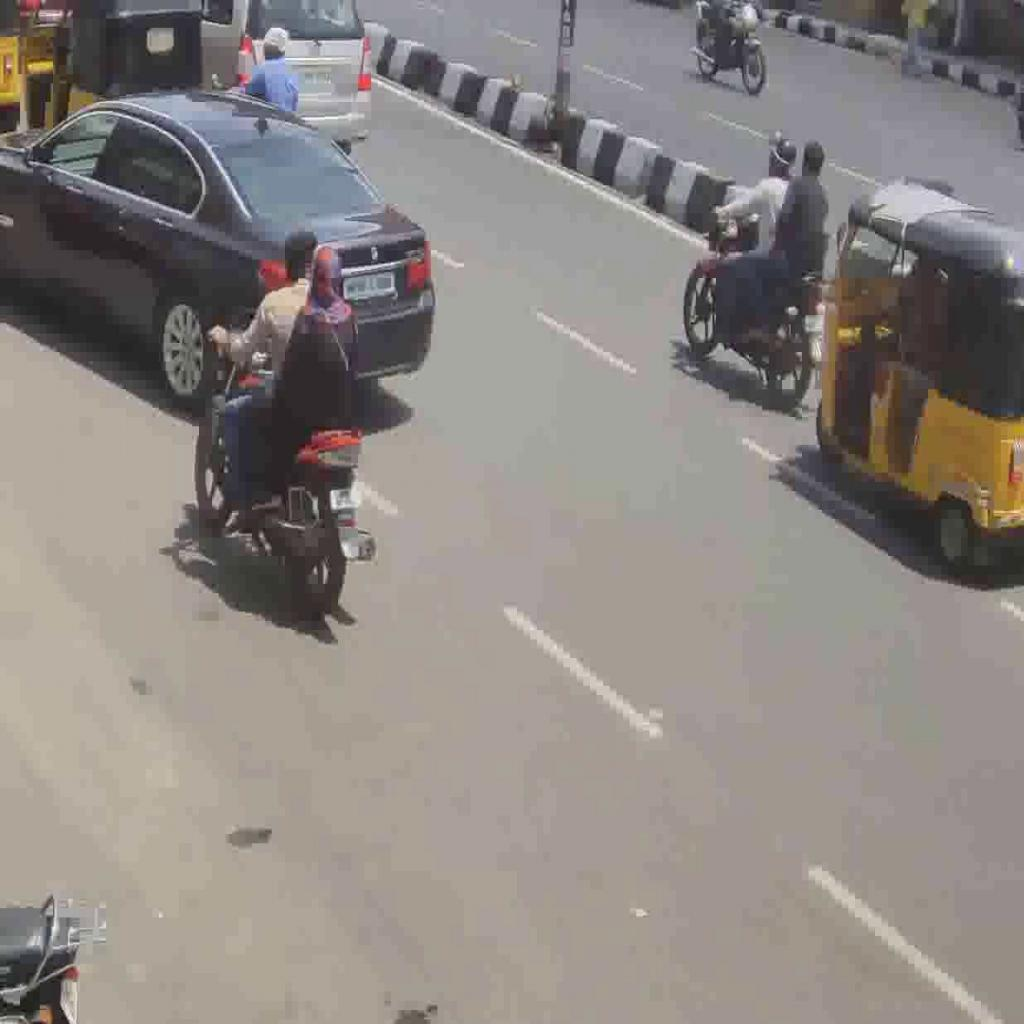helmet: (194, 311, 378, 617), (683, 200, 824, 409)
